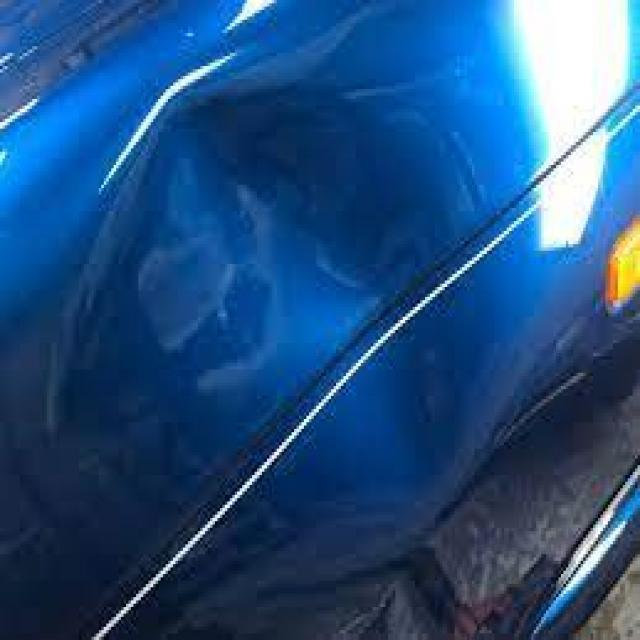car damage: (123, 68, 476, 507)
